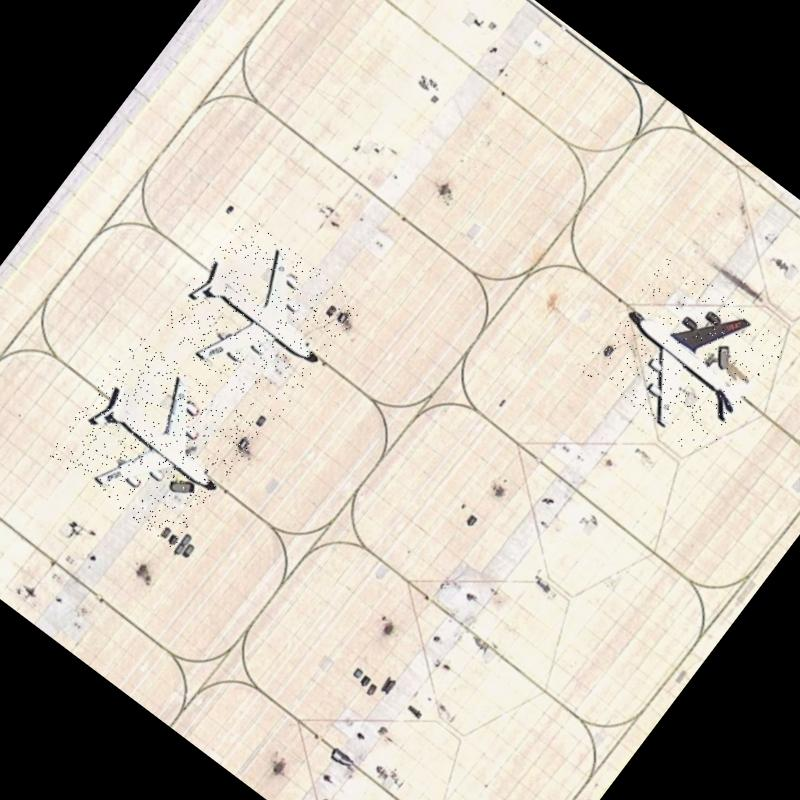A11: (47, 334, 264, 550), (152, 211, 366, 423), (579, 252, 789, 462)
